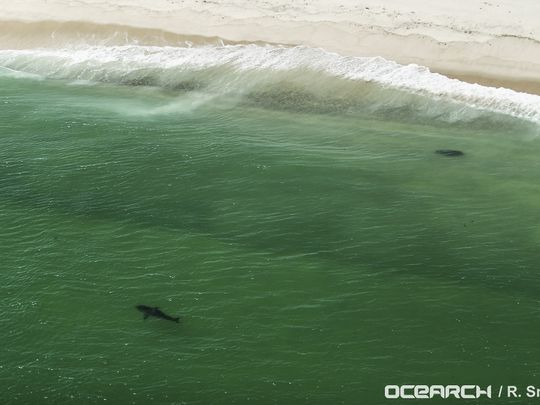shark: (132, 301, 183, 327)
